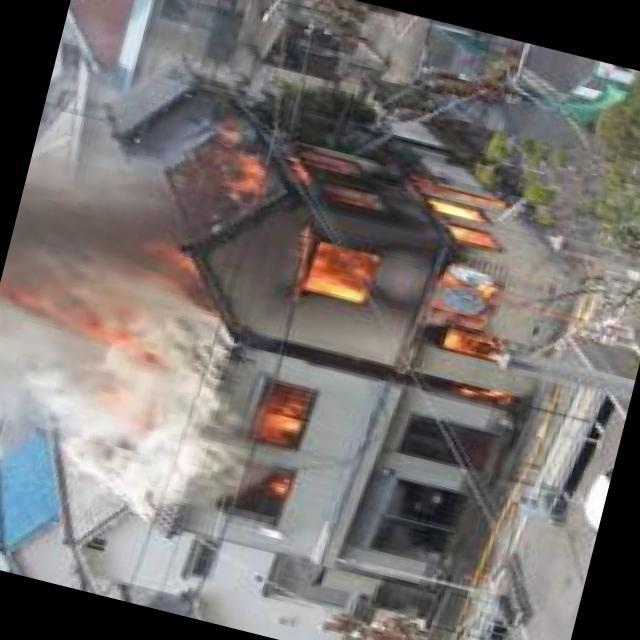Fire: (161, 105, 543, 374), (240, 382, 322, 512), (33, 295, 151, 360)
